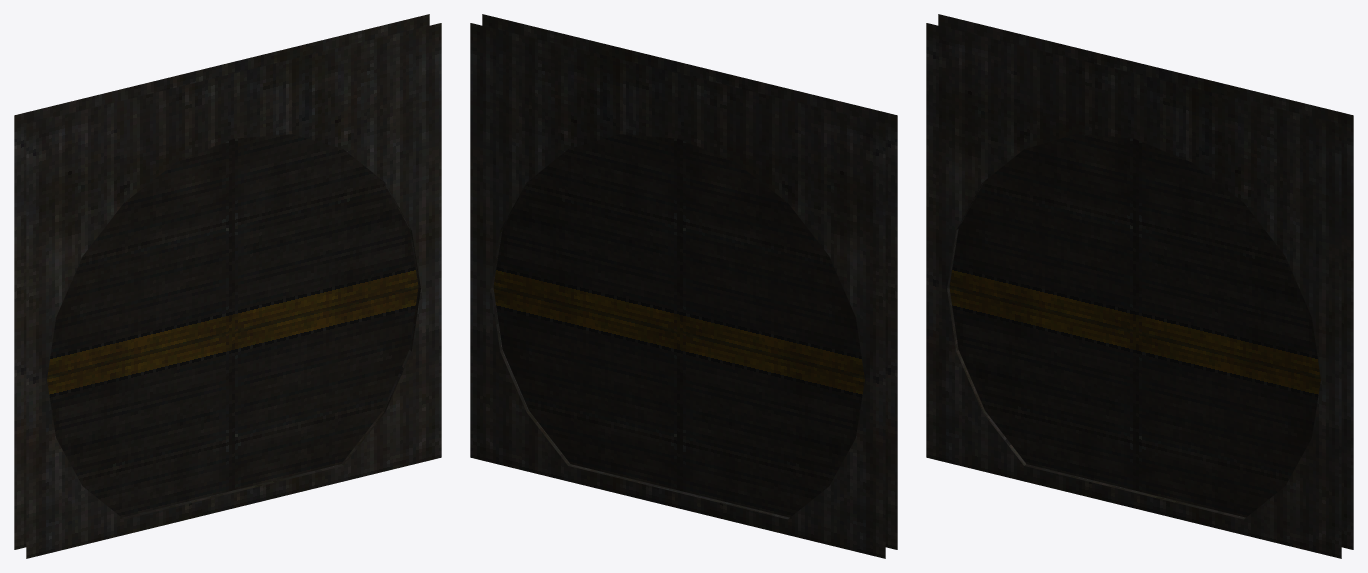
Rendered from doorway_wide_1.glb.
The picture shows the model from 3 angles, left to right: view 1: azimuth 30°, elevation 25°; view 2: azimuth 150°, elevation 25°; view 3: azimuth 330°, elevation 25°; orthographic projection.
Parts seen in each view (by area): view 1: doorway_wide_1, door_wide_1_top, door_wide_1_bottom; view 2: doorway_wide_1, door_wide_1_top, door_wide_1_bottom; view 3: doorway_wide_1, door_wide_1_top, door_wide_1_bottom.
Boxes of the visible parts, box(x1,y1,x2,y2) form: doorway_wide_1: box(14, 14, 441, 558); door_wide_1_top: box(47, 134, 418, 377); door_wide_1_bottom: box(47, 287, 418, 517); doorway_wide_1: box(470, 14, 897, 558); door_wide_1_top: box(493, 134, 864, 377); door_wide_1_bottom: box(493, 287, 864, 517); doorway_wide_1: box(926, 14, 1353, 558); door_wide_1_top: box(949, 134, 1320, 377); door_wide_1_bottom: box(949, 287, 1320, 517).
Bounding box in the file's own units: 2 × 2 × 0.1.
Materials: 2 (2 with a texture image).
